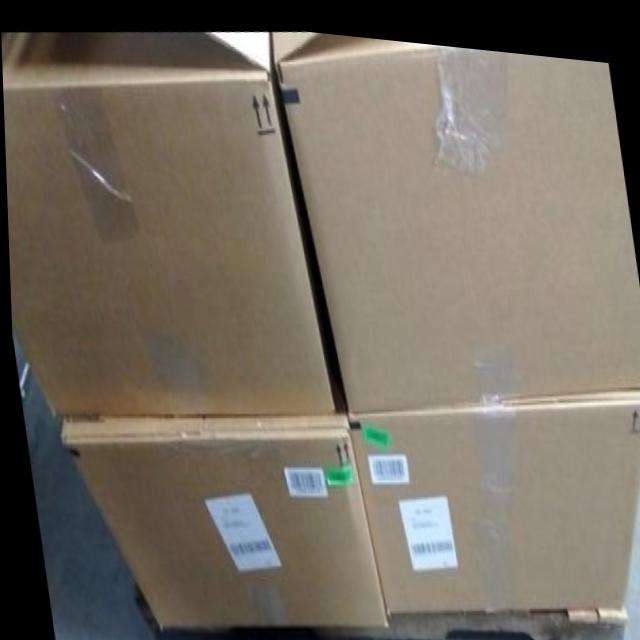box: (270, 25, 640, 404), (1, 26, 333, 415), (58, 404, 385, 631), (344, 371, 640, 611)
